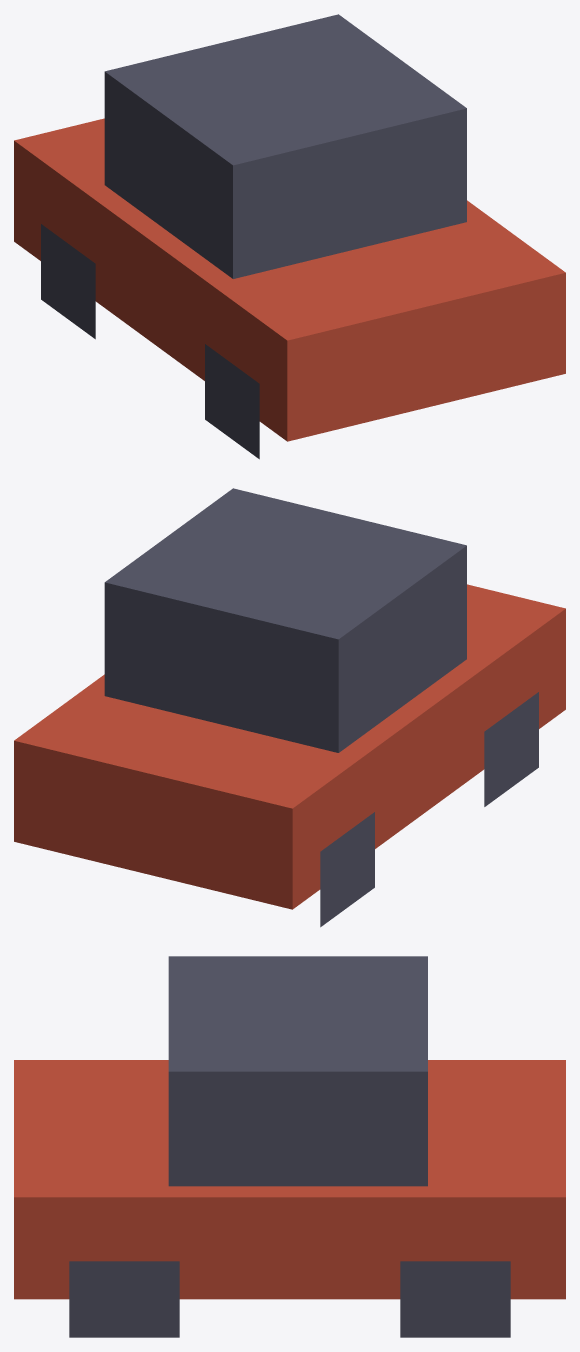
Rendered from sedan-low.glb.
3 views of the same model, one above another, from view 1: azimuth 30°, elevation 25°; view 2: azimuth 150°, elevation 25°; view 3: azimuth 270°, elevation 25° (orthographic).
Bounding box in the file's own units: 1.5 × 1.3 × 2.55.
